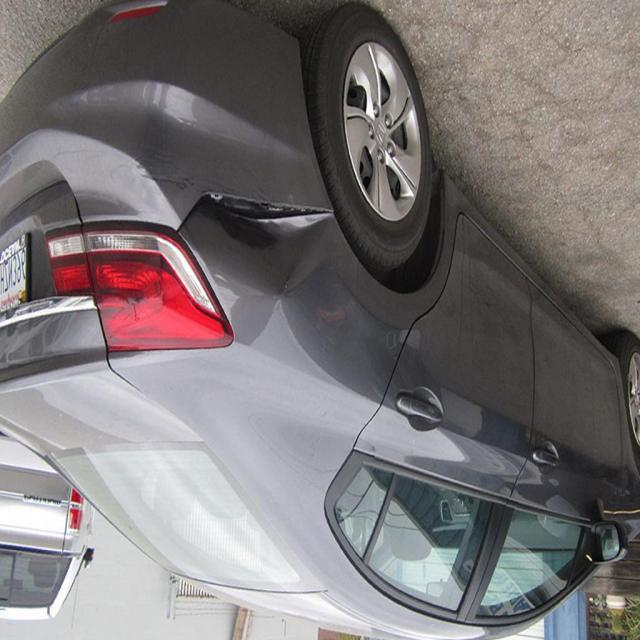dent: (146, 132, 352, 266)
